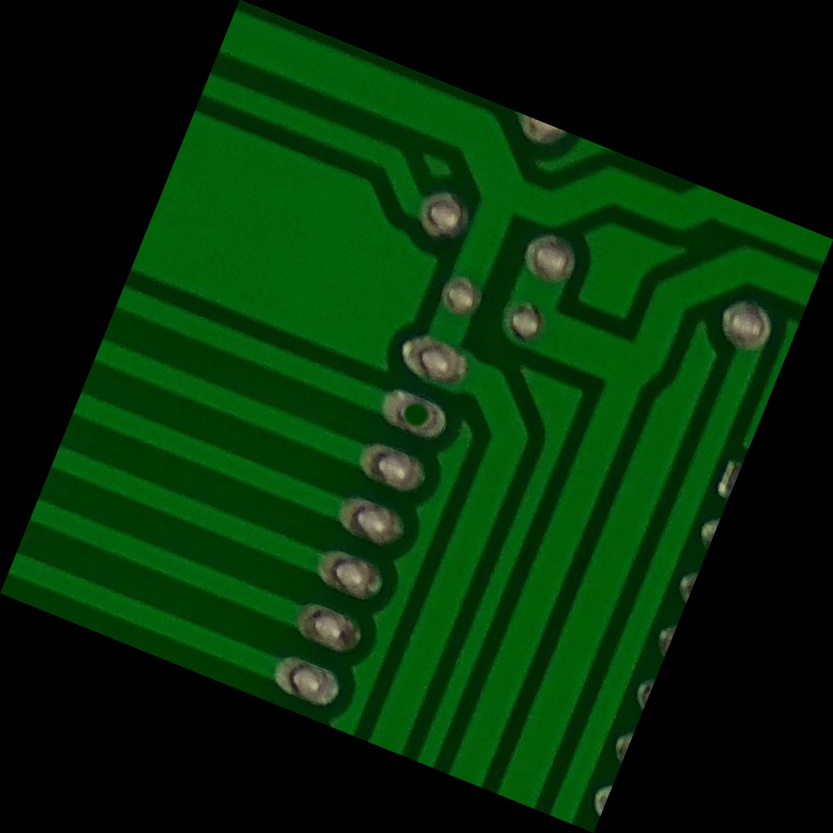missing_hole: (374, 377, 460, 456)
